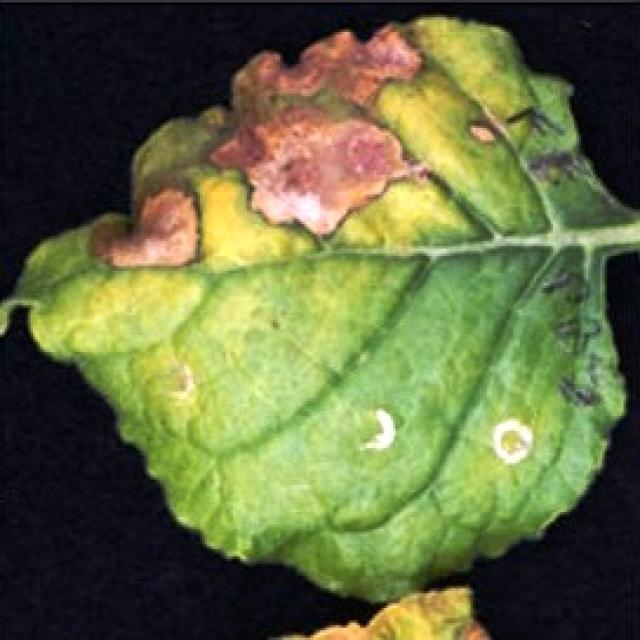Fusarium Wilt: (41, 26, 450, 265)
